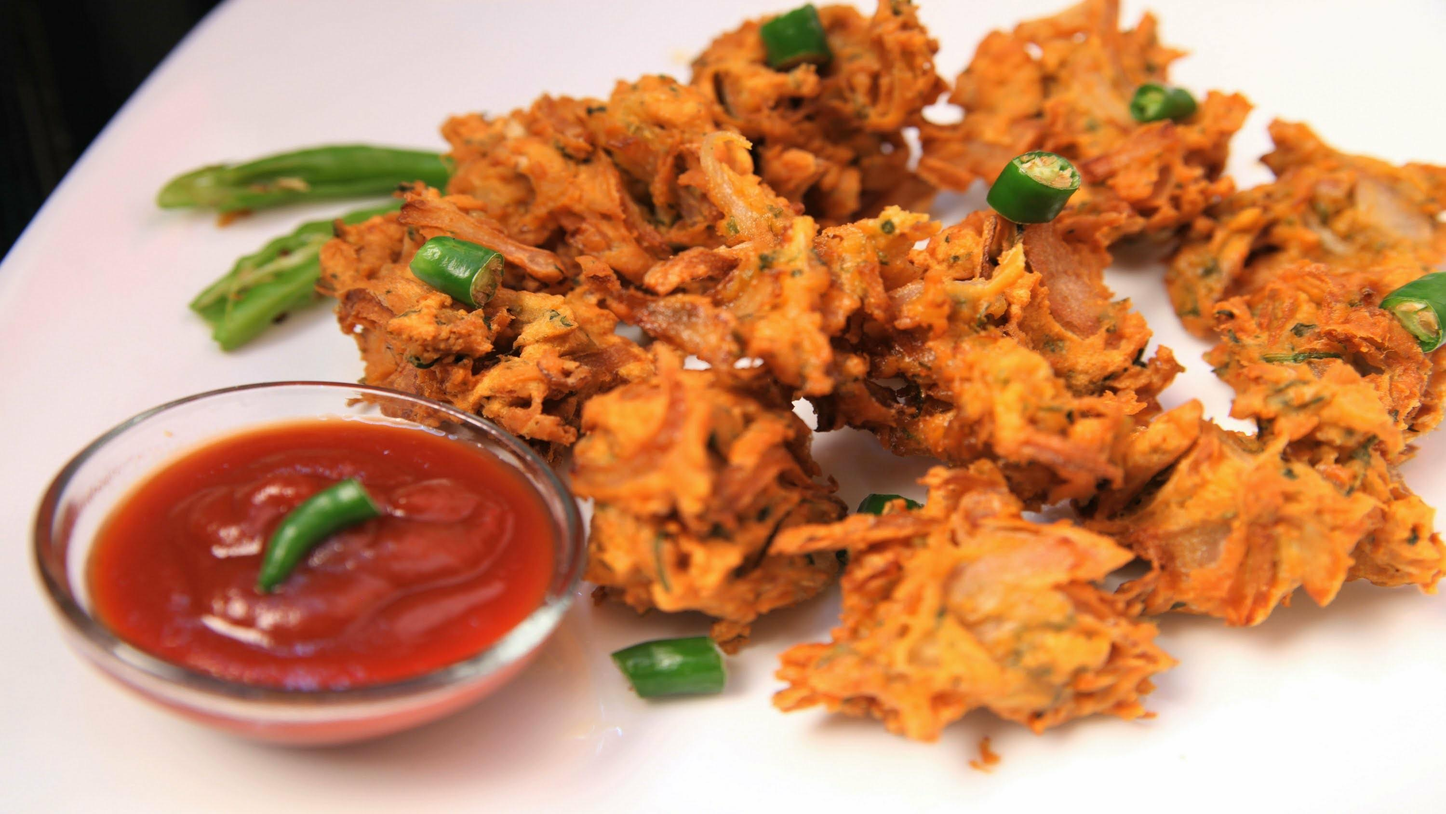OnionPakoda: (317, 0, 1446, 743)
